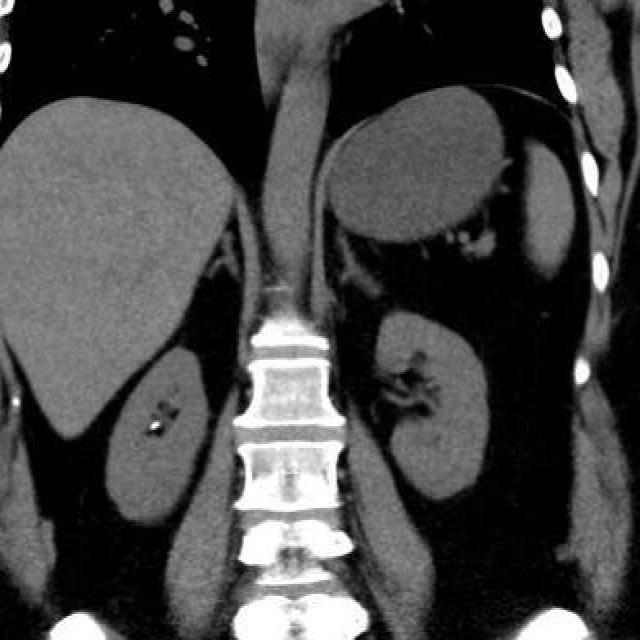Tas_Var: (148, 419, 163, 433)
